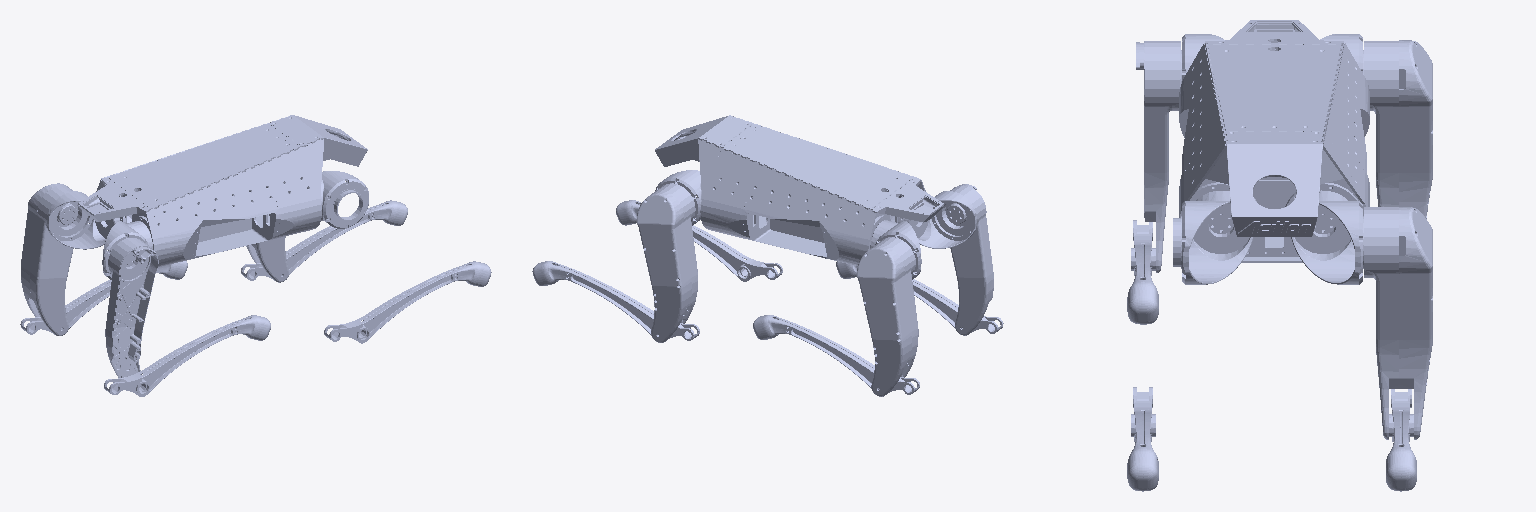
The robot description file, URDF, robot "ac2":
<?xml version="1.0" encoding="utf-8"?>
<!-- This URDF was automatically created by SolidWorks to URDF Exporter! Originally created by [author] ([email redacted]) 
     Commit Version: 1.6.0-4-g7f85cfe  Build Version: 1.6.7995.38578
     For more information, please see http://wiki.ros.org/sw_urdf_exporter -->
<robot
  name="ac2">

  <!-- base -->
  <link
    name="base">
    <inertial>
      <origin
        xyz="0.019195 0.0 0.012831"
        rpy="0 0 0" />
      <mass
        value="9.830" />
      <inertia
        ixx="0.05840165"
        ixy="0.000016493"
        ixz="-0.014189081"
        iyy="0.204936102"
        iyz="0.000067903"
        izz="0.226098013" />
    </inertial>
    <visual>
      <origin
        xyz="0 0 0"
        rpy="0 0 0" />
      <geometry>
        <mesh
          filename="../meshes/base.STL" />
      </geometry>
      <material
        name="">
        <color
          rgba="0.79216 0.81961 0.93333 1" />
      </material>
    </visual>
    <collision>
      <origin
        xyz="0 0 0.033"
        rpy="0 0 0" />
      <geometry>
        <box size="0.36 0.2 0.16"/>
      </geometry>
    </collision>
  </link>
  
  <!-- mid360 -->
  <link
    name="mid360">
    <inertial>
      <origin
        xyz="-0.00809226 -0.00000618 -0.01548115"
        rpy="0 0 0" />
      <mass
        value="1e-3" />
      <inertia
        ixx="1e-6"
        ixy="0.0"
        ixz="0.0"
        iyy="1e-6"
        iyz="0.0"
        izz="1e-6" />
    </inertial>
    <visual>
      <origin
        xyz="0 0 0"
        rpy="0 0 0" />
      <geometry>
        <mesh
           filename="../meshes/mid360.STL" />
      </geometry>
      <material
        name="">
        <color
          rgba="1 1 1 1" />
      </material>
    </visual>
    <collision>
      <origin
        xyz="0 0 0"
        rpy="0 0 0" />
      <geometry>
        <sphere
          radius="0.023" />
      </geometry>
    </collision>
  </link>

  <!-- mid360 joint -->
  <joint
    name="mid360"
    type="fixed" dont_collapse="true">
    <origin
       xyz="0.288316653829924 0 0.0950137038029769"
      rpy="0 0 0" />
    <parent
      link="base" />
    <child
      link="mid360" />
    <axis
      xyz="0 0 0" />
  </joint>

  <!-- FR_hip -->
  <link
    name="FR_hip">
    <inertial>
      <origin
        xyz="-0.003719 -0.024390 0.002636"
        rpy="0 0 0" />
      <mass
        value="1.25" />
      <inertia
        ixx="0.001250756"
        ixy="0.000112145"
        ixz="-0.000013266"
        iyy="0.001692423"
        iyz="-0.000035135"
        izz="0.001362387" />
    </inertial>
    <visual>
      <origin
        xyz="0 0 0"
        rpy="0 0 0" />
      <geometry>
        <mesh
          filename="../meshes/fr_hip.STL" />
      </geometry>
      <material
        name="">
        <color
          rgba="0.79216 0.81961 0.93333 1" />
      </material>
    </visual>
  </link>

  <!-- FR_hip_joint -->
  <joint
    name="FR_hip_joint"
    type="revolute">
    <origin
      xyz="0.23995 -0.064815 0"
      rpy="0 0 0" />
    <parent
      link="base" />
    <child
      link="FR_hip" />
    <axis
      xyz="1 0 0" />
    <limit
      lower="-0.8028514559173915"
      upper="0.8028514559173915"
      effort="50.5"
      velocity="21" />
  </joint>

  <!-- FR_thigh -->
  <link
    name="FR_thigh">
    <inertial>
      <origin
        xyz="-0.012327 0.005701 -0.067505"
        rpy="0 0 0" />
      <mass
        value="1.380" />
      <inertia
        ixx="0.006818525"
        ixy="-0.000058813"
        ixz="-0.000719904"
        iyy="0.006975306"
        iyz="-0.00022201"
        izz="0.001150878" />
    </inertial>
    <visual>
      <origin
        xyz="0 0 0"
        rpy="0 0 0" />
      <geometry>
        <mesh
          filename="../meshes/fr_thigh.STL" />
      </geometry>
      <material
        name="">
        <color
          rgba="0.79216 0.81961 0.93333 1" />
      </material>
    </visual>
    <collision>
      <origin
        xyz="-0.014352 0 -0.086111"
        rpy="0 0.1745329252 0" />
      <geometry>
        <box size="0.06 0.06 0.26"/>
      </geometry>
    </collision>
  </link>

  <!-- FR_thigh_joint -->
  <joint
    name="FR_thigh_joint"
    type="revolute">
    <origin
      xyz="0 -0.095 0"
      rpy="0 0 0" />
    <parent
      link="FR_hip" />
    <child
      link="FR_thigh" />
    <axis
      xyz="0 1 0" />
    <limit
      lower="-1.0471975511965976"
      upper="4.1887902047863905"
      effort="60.5"
      velocity="21" />
  </joint>

  <!-- FR_calf -->
  <link
    name="FR_calf">
    <inertial>
      <origin
        xyz="0.010972 0 -0.023725"
        rpy="0 0 0" />
      <mass
        value="0.220" />
      <inertia
        ixx="0.001202813"
        ixy="0.0000000000"
        ixz="0.000038441"
        iyy="0.001226264"
        iyz="-0.0"
        izz="0.000050514" />
    </inertial>
    <visual>
      <origin
        xyz="0 0 0"
        rpy="0 0 0" />
      <geometry>
        <mesh
          filename="../meshes/fr_calf.STL" />
      </geometry>
      <material
        name="">
        <color
          rgba="0.79216 0.81961 0.93333 1" />
      </material>
    </visual>
    <collision>
      <origin
        xyz="0.011876 0 -0.056649"
        rpy="0 -0.1745329252 0" />
      <geometry>
        <box size="0.02 0.02 0.1"/>
      </geometry>
    </collision>
    <collision>
      <origin
        xyz="0.021144 0 -0.171595"
        rpy="0 0 0" />
      <geometry>
        <box size="0.02 0.02 0.12"/>
      </geometry>
    </collision>
  </link>

  <!-- FR_calf_joint -->
  <joint
    name="FR_calf_joint"
    type="revolute">
    <origin
      xyz="0 0.001 -0.246"
      rpy="0 0 0" />
    <parent
      link="FR_thigh" />
    <child
      link="FR_calf" />
    <axis
      xyz="0 1 0" />
    <limit
      lower="-2.6965336943312392"
      upper="-0.9162978572970231"
      effort="70.5"
      velocity="21" />
  </joint>

  <!-- FL_hip -->
  <link
    name="FL_hip">
    <inertial>
      <origin
        xyz="-0.003719 0.024390 0.002636"
        rpy="0 0 0" />
      <mass
        value="1.25" />
      <inertia
        ixx="0.001250756"
        ixy="-0.000112145"
        ixz="-0.000013266"
        iyy="0.001692423"
        iyz="0.000035135"
        izz="0.001362387" />
    </inertial>
    <visual>
      <origin
        xyz="0 0 0"
        rpy="0 0 0" />
      <geometry>
        <mesh
          filename="../meshes/fl_hip.STL" />
      </geometry>
      <material
        name="">
        <color
          rgba="0.79216 0.81961 0.93333 1" />
      </material>
    </visual>
  </link>

  <!-- FL_hip_joint -->
  <joint
    name="FL_hip_joint"
    type="revolute">
    <origin
      xyz="0.23995 0.059185 0"
      rpy="0 0 0" />
    <parent
      link="base" />
    <child
      link="FL_hip" />
    <axis
      xyz="1 0 0" />
    <limit
      lower="-0.8028514559173915"
      upper="0.8028514559173915"
      effort="50.5"
      velocity="21" />
  </joint>

  <!-- FL_thigh -->
  <link
    name="FL_thigh">
    <inertial>
      <origin
        xyz="-0.012327 -0.005701 -0.067505"
        rpy="0 0 0" />
      <mass
        value="1.380" />
      <inertia
        ixx="0.006818525"
        ixy="0.000058813"
        ixz="-0.000719904"
        iyy="0.006975306"
        iyz="0.00022201"
        izz="0.001150878" />
    </inertial>
    <visual>
      <origin
        xyz="0 0 0"
        rpy="0 0 0" />
      <geometry>
        <mesh
          filename="../meshes/fl_thigh.STL" />
      </geometry>
      <material
        name="">
        <color
          rgba="0.79216 0.81961 0.93333 1" />
      </material>
    </visual>
    <collision>
      <origin
        xyz="-0.014352 0 -0.086111"
        rpy="0 0.1745329252 0" />
      <geometry>
        <box size="0.06 0.06 0.26"/>
      </geometry>
    </collision>
  </link>

  <!-- FL_thigh_joint -->
  <joint
    name="FL_thigh_joint"
    type="revolute">
    <origin
      xyz="0 0.095 0"
      rpy="0 0 0" />
    <parent
      link="FL_hip" />
    <child
      link="FL_thigh" />
    <axis
      xyz="0 1 0" />
    <limit
      lower="-1.0471975511965976"
      upper="4.1887902047863905"
      effort="60.5"
      velocity="21" />
  </joint>

  <!-- FL_calf -->
  <link
    name="FL_calf">
    <inertial>
      <origin
        xyz="0.010972 0 -0.023725"
        rpy="0 0 0" />
      <mass
        value="0.220" />
      <inertia
        ixx="0.001202813"
        ixy="0.0000000000"
        ixz="0.000038441"
        iyy="0.001226264"
        iyz="-0.0"
        izz="0.000050514" />
    </inertial>
    <visual>
      <origin
        xyz="0 0 0"
        rpy="0 0 0" />
      <geometry>
        <mesh
          filename="../meshes/fl_calf.STL" />
      </geometry>
      <material
        name="">
        <color
          rgba="0.79216 0.81961 0.93333 1" />
      </material>
    </visual>
    <collision>
      <origin
        xyz="0.011876 0 -0.056649"
        rpy="0 -0.1745329252 0" />
      <geometry>
        <box size="0.02 0.02 0.1"/>
      </geometry>
    </collision>
    <collision>
      <origin
        xyz="0.021144 0 -0.171595"
        rpy="0 0 0" />
      <geometry>
        <box size="0.02 0.02 0.12"/>
      </geometry>
    </collision>
  </link>

  <!-- FL_calf_joint -->
  <joint
    name="FL_calf_joint"
    type="revolute">
    <origin
      xyz="0 0 -0.246"
      rpy="0 0 0" />
    <parent
      link="FL_thigh" />
    <child
      link="FL_calf" />
    <axis
      xyz="0 1 0" />
    <limit
      lower="-2.6965336943312392"
      upper="-0.9162978572970231"
      effort="70.5"
      velocity="21" />
  </joint>

  <!-- RR_hip -->
  <link
    name="RR_hip">
    <inertial>
      <origin
        xyz="0.003719 -0.024390 0.002636"
        rpy="0 0 0" />
      <mass
        value="1.25" />
      <inertia
        ixx="0.001250756"
        ixy="-0.000112145"
        ixz="0.000013266"
        iyy="0.001692423"
        iyz="-0.000035135"
        izz="0.001362387" />
    </inertial>
    <visual>
      <origin
        xyz="0 0 0"
        rpy="0 0 0" />
      <geometry>
        <mesh
          filename="../meshes/rr_hip.STL" />
      </geometry>
      <material
        name="">
        <color
          rgba="0.79216 0.81961 0.93333 1" />
      </material>
    </visual>
  </link>

  <!-- RR_hip_joint -->
  <joint
    name="RR_hip_joint"
    type="revolute">
    <origin
      xyz="-0.24005 -0.064815 0"
      rpy="0 0 0" />
    <parent
      link="base" />
    <child
      link="RR_hip" />
    <axis
      xyz="1 0 0" />
    <limit
      lower="-0.8028514559173915"
      upper="0.8028514559173915"
      effort="50.5"
      velocity="21" />
  </joint>

  <!-- RR_thigh -->
  <link
    name="RR_thigh">
    <inertial>
      <origin
        xyz="-0.012327 0.005701 -0.067505"
        rpy="0 0 0" />
      <mass
        value="1.380" />
      <inertia
        ixx="0.006818525"
        ixy="-0.000058813"
        ixz="-0.000719904"
        iyy="0.006975306"
        iyz="-0.00022201"
        izz="0.001150878" />
    </inertial>
    <visual>
      <origin
        xyz="0 0 0"
        rpy="0 0 0" />
      <geometry>
        <mesh
          filename="../meshes/rr_thigh.STL" />
      </geometry>
      <material
        name="">
        <color
          rgba="0.792156862745098 0.819607843137255 0.933333333333333 1" />
      </material>
    </visual>
    <collision>
      <origin
        xyz="-0.014352 0 -0.086111"
        rpy="0 0.1745329252 0" />
      <geometry>
        <box size="0.06 0.06 0.26"/>
      </geometry>
    </collision>
  </link>

  <!-- RR_thigh_joint -->
  <joint
    name="RR_thigh_joint"
    type="revolute">
    <origin
      xyz="0 -0.095 0"
      rpy="0 0 0" />
    <parent
      link="RR_hip" />
    <child
      link="RR_thigh" />
    <axis
      xyz="0 1 0" />
    <limit
      lower="-1.0471975511965976"
      upper="4.1887902047863905"
      effort="60.5"
      velocity="21" />
  </joint>

  <!-- RR_calf -->
  <link
    name="RR_calf">
    <inertial>
      <origin
        xyz="0.010972 0 -0.023725"
        rpy="0 0 0" />
      <mass
        value="0.220" />
      <inertia
        ixx="0.001202813"
        ixy="0.0000000000"
        ixz="0.000038441"
        iyy="0.001226264"
        iyz="-0.0"
        izz="0.000050514" />
    </inertial>
    <visual>
      <origin
        xyz="0 0 0"
        rpy="0 0 0" />
      <geometry>
        <mesh
          filename="../meshes/rr_calf.STL" />
      </geometry>
      <material
        name="">
        <color
          rgba="0.79216 0.81961 0.93333 1" />
      </material>
    </visual>
    <collision>
      <origin
        xyz="0.011876 0 -0.056649"
        rpy="0 -0.1745329252 0" />
      <geometry>
        <box size="0.02 0.02 0.1"/>
      </geometry>
    </collision>
    <collision>
      <origin
        xyz="0.021144 0 -0.171595"
        rpy="0 0 0" />
      <geometry>
        <box size="0.02 0.02 0.12"/>
      </geometry>
    </collision>
  </link>

  <!-- RR_calf_joint -->
  <joint
    name="RR_calf_joint"
    type="revolute">
    <origin
      xyz="0 0.001 -0.246"
      rpy="0 0 0" />
    <parent
      link="RR_thigh" />
    <child
      link="RR_calf" />
    <axis
      xyz="0 1 0" />
    <limit
      lower="-2.6965336943312392"
      upper="-0.9162978572970231"
      effort="70.5"
      velocity="21" />
  </joint>

  <!-- RL_hip -->
  <link
    name="RL_hip">
    <inertial>
      <origin
        xyz="0.003719 0.024390 0.002636"
        rpy="0 0 0" />
      <mass
        value="1.25" />
      <inertia
        ixx="0.001250756"
        ixy="0.000112145"
        ixz="0.000013266"
        iyy="0.001692423"
        iyz="0.000035135"
        izz="0.001362387" />
    </inertial>
    <visual>
      <origin
        xyz="0 0 0"
        rpy="0 0 0" />
      <geometry>
        <mesh
          filename="../meshes/rl_hip.STL" />
      </geometry>
      <material
        name="">
        <color
          rgba="0.79216 0.81961 0.93333 1" />
      </material>
    </visual>
  </link>

  <!-- RL_hip_joint -->
  <joint
    name="RL_hip_joint"
    type="revolute">
    <origin
      xyz="-0.24005 0.059185 0"
      rpy="0 0 0" />
    <parent
      link="base" />
    <child
      link="RL_hip" />
    <axis
      xyz="1 0 0" />
    <limit
      lower="-0.8028514559173915"
      upper="0.8028514559173915"
      effort="50.5"
      velocity="21" />
  </joint>

  <!-- RL_thigh -->
  <link
    name="RL_thigh">
    <inertial>
      <origin
        xyz="-0.012327 -0.005701 -0.067505"
        rpy="0 0 0" />
      <mass
        value="1.380" />
      <inertia
        ixx="0.006818525"
        ixy="0.000058813"
        ixz="-0.000719904"
        iyy="0.006975306"
        iyz="0.00022201"
        izz="0.001150878" />
    </inertial>
    <visual>
      <origin
        xyz="0 0 0"
        rpy="0 0 0" />
      <geometry>
        <mesh
          filename="../meshes/rl_thigh.STL" />
      </geometry>
      <material
        name="">
        <color
          rgba="0.79216 0.81961 0.93333 1" />
      </material>
    </visual>
    <collision>
      <origin
        xyz="-0.014352 0 -0.086111"
        rpy="0 0.1745329252 0" />
      <geometry>
        <box size="0.06 0.06 0.26"/>
      </geometry>
    </collision>
  </link>

  <!-- RL_thigh_joint -->
  <joint
    name="RL_thigh_joint"
    type="revolute">
    <origin
      xyz="0 0.095 0"
      rpy="0 0 0" />
    <parent
      link="RL_hip" />
    <child
      link="RL_thigh" />
    <axis
      xyz="0 1 0" />
    <limit
      lower="-1.0471975511965976"
      upper="4.1887902047863905"
      effort="60.5"
      velocity="21" />
  </joint>

  <!-- RL_calf -->
  <link
    name="RL_calf">
    <inertial>
      <origin
        xyz="0.010972 0 -0.023725"
        rpy="0 0 0" />
      <mass
        value="0.220" />
      <inertia
        ixx="0.001202813"
        ixy="0.0000000000"
        ixz="0.000038441"
        iyy="0.001226264"
        iyz="-0.0"
        izz="0.000050514" />
    </inertial>
    <visual>
      <origin
        xyz="0 0 0"
        rpy="0 0 0" />
      <geometry>
        <mesh
          filename="../meshes/rl_calf.STL" />
      </geometry>
      <material
        name="">
        <color
          rgba="0.79216 0.81961 0.93333 1" />
      </material>
    </visual>
    <collision>
      <origin
        xyz="0.011876 0 -0.056649"
        rpy="0 -0.1745329252 0" />
      <geometry>
        <box size="0.02 0.02 0.1"/>
      </geometry>
    </collision>
    <collision>
      <origin
        xyz="0.021144 0 -0.171595"
        rpy="0 0 0" />
      <geometry>
        <box size="0.02 0.02 0.12"/>
      </geometry>
    </collision>
  </link>

  <!-- RL_calf_joint -->
  <joint
    name="RL_calf_joint"
    type="revolute">
    <origin
      xyz="0 0 -0.246"
      rpy="0 0 0" />
    <parent
      link="RL_thigh" />
    <child
      link="RL_calf" />
    <axis
      xyz="0 1 0" />
    <limit
      lower="-2.6965336943312392"
      upper="-0.9162978572970231"
      effort="70.5"
      velocity="21" />
  </joint>

  <!-- FR_foot -->
  <link
    name="FR_foot">
    <inertial>
      <origin
        xyz="0.003105 -0.001002 0.005768"
        rpy="0 0 0" />
      <mass
        value="0.061" />
      <inertia
        ixx="0.000022326"
        ixy="0.000000002"
        ixz="-0.000004399"
        iyy="0.000026548"
        iyz="0.000000004"
        izz="0.000016009" />
    </inertial>
    <collision>
      <origin
        xyz="0 0 0"
        rpy="0 0 0" />
      <geometry>
        <sphere
          radius="0.026" />
      </geometry>
    </collision>
  </link>

  <!-- FR_foot_fixed -->
  <joint
    name="FR_foot_fixed"
    type="fixed" dont_collapse="true">
    <origin
      xyz="0 0 -0.26"
      rpy="0 0 0" />
    <parent
      link="FR_calf" />
    <child
      link="FR_foot" />
  </joint>

  <!-- FL_foot -->
  <link
    name="FL_foot">
    <inertial>
      <origin
        xyz="0.003105 -0.001002 0.005768"
        rpy="0 0 0" />
      <mass
        value="0.061" />
      <inertia
        ixx="0.000022326"
        ixy="0.000000002"
        ixz="-0.000004399"
        iyy="0.000026548"
        iyz="0.000000004"
        izz="0.000016009" />
    </inertial>
    <collision>
      <origin
        xyz="0 0 0"
        rpy="0 0 0" />
      <geometry>
        <sphere
          radius="0.026" />
      </geometry>
    </collision>
  </link>

  <!-- FL_foot_fixed -->
  <joint
    name="FL_foot_fixed"
    type="fixed" dont_collapse="true">
    <origin
      xyz="0 0 -0.26"
      rpy="0 0 0" />
    <parent
      link="FL_calf" />
    <child
      link="FL_foot" />
  </joint>

  <!-- RL_foot -->
  <link
    name="RL_foot">
    <inertial>
      <origin
        xyz="0.003105 -0.001002 0.005768"
        rpy="0 0 0" />
      <mass
        value="0.061" />
      <inertia
        ixx="0.000022326"
        ixy="0.000000002"
        ixz="-0.000004399"
        iyy="0.000026548"
        iyz="0.000000004"
        izz="0.000016009" />
    </inertial>
    <collision>
      <origin
        xyz="0 0 0"
        rpy="0 0 0" />
      <geometry>
        <sphere
          radius="0.026" />
      </geometry>
    </collision>
  </link>

  <!-- RL_foot_fixed -->
  <joint
    name="RL_foot_fixed"
    type="fixed" dont_collapse="true">
    <origin
      xyz="0 0 -0.26"
      rpy="0 0 0" />
    <parent
      link="RL_calf" />
    <child
      link="RL_foot" />
  </joint>

  <!-- RR_foot -->
  <link
    name="RR_foot">
    <inertial>
      <origin
        xyz="0.003105 -0.001002 0.005768"
        rpy="0 0 0" />
      <mass
        value="0.061" />
      <inertia
        ixx="0.000022326"
        ixy="0.000000002"
        ixz="-0.000004399"
        iyy="0.000026548"
        iyz="0.000000004"
        izz="0.000016009" />
    </inertial>
    <collision>
      <origin
        xyz="0 0 0"
        rpy="0 0 0" />
      <geometry>
        <sphere
          radius="0.026" />
      </geometry>
    </collision>
  </link>

  <!-- RR_foot_fixed -->
  <joint
    name="RR_foot_fixed"
    type="fixed" dont_collapse="true">
    <origin
      xyz="0 0 -0.26"
      rpy="0 0 0" />
    <parent
      link="RR_calf" />
    <child
      link="RR_foot" />
  </joint>

</robot>

--- Render facts (derived) ---
3 views of the same robot in one strip: view 1: azimuth 30°, elevation 25°; view 2: azimuth 150°, elevation 25°; view 3: azimuth 270°, elevation 25° (orthographic).
Robot: ac2 — 18 links, 17 joints (12 revolute, 5 fixed); root link base; default pose: joints at zero except 4 at the middle of their limits (FR_calf_joint = -1.81, FL_calf_joint = -1.81, RR_calf_joint = -1.81, RL_calf_joint = -1.81).
Links seen in each view (by area): view 1: base, RL_thigh, RR_thigh, FR_calf, RR_calf, FL_calf, RL_hip, FR_hip, RL_calf, FL_thigh, RR_hip; view 2: base, RL_thigh, FL_thigh, RR_thigh, FL_calf, RL_calf, FR_calf, RR_hip, RR_calf, RL_hip, FL_hip; view 3: base, FL_thigh, RL_thigh, RR_thigh, FR_hip, FL_hip, RR_calf, FR_calf, FL_calf, RR_hip, RL_hip.
Link boxes in pixels (left/top/right/bottom): base: left=78, top=115, right=367, bottom=266; RL_thigh: left=21, top=183, right=78, bottom=335; RR_thigh: left=105, top=238, right=158, bottom=377; FR_calf: left=324, top=261, right=491, bottom=343; RR_calf: left=104, top=315, right=270, bottom=396; FL_calf: left=241, top=200, right=407, bottom=282; RL_hip: left=47, top=191, right=125, bottom=249; FR_hip: left=320, top=171, right=368, bottom=228; RL_calf: left=20, top=261, right=187, bottom=334; FL_thigh: left=246, top=236, right=288, bottom=282; RR_hip: left=102, top=216, right=152, bottom=279; base: left=655, top=115, right=943, bottom=265; RL_thigh: left=857, top=237, right=918, bottom=396; FL_thigh: left=637, top=183, right=697, bottom=342; RR_thigh: left=945, top=184, right=993, bottom=335; FL_calf: left=532, top=261, right=699, bottom=341; RL_calf: left=753, top=315, right=919, bottom=396; FR_calf: left=616, top=200, right=782, bottom=281; RR_hip: left=898, top=191, right=976, bottom=248; RR_calf: left=836, top=261, right=1003, bottom=335; RL_hip: left=869, top=215, right=921, bottom=279; FL_hip: left=655, top=170, right=701, bottom=225; base: left=1179, top=20, right=1369, bottom=262; FL_thigh: left=1364, top=207, right=1432, bottom=439; RL_thigh: left=1364, top=40, right=1432, bottom=218; RR_thigh: left=1136, top=41, right=1180, bottom=272; FR_hip: left=1173, top=182, right=1256, bottom=284; FL_hip: left=1285, top=183, right=1363, bottom=284; RR_calf: left=1127, top=220, right=1158, bottom=324; FR_calf: left=1127, top=387, right=1158, bottom=491; FL_calf: left=1386, top=389, right=1416, bottom=491; RR_hip: left=1181, top=34, right=1224, bottom=83; RL_hip: left=1320, top=34, right=1363, bottom=74.
Size in the robot's own frame: 0.8333 by 0.3713 by 0.3888 metres.
Meshes: 14 distinct files referenced, 12 mesh visuals loaded (12 binary STL); not drawn: 2 (reference not matched to a file when rendering).
